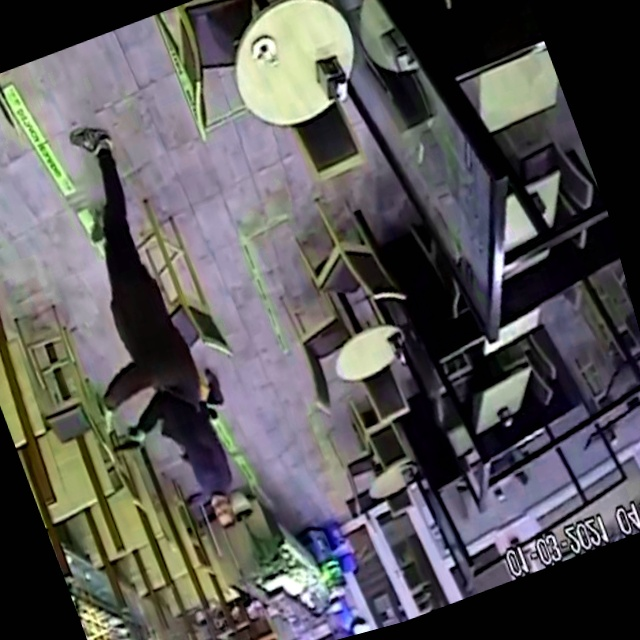gun: (92, 407, 166, 478)
